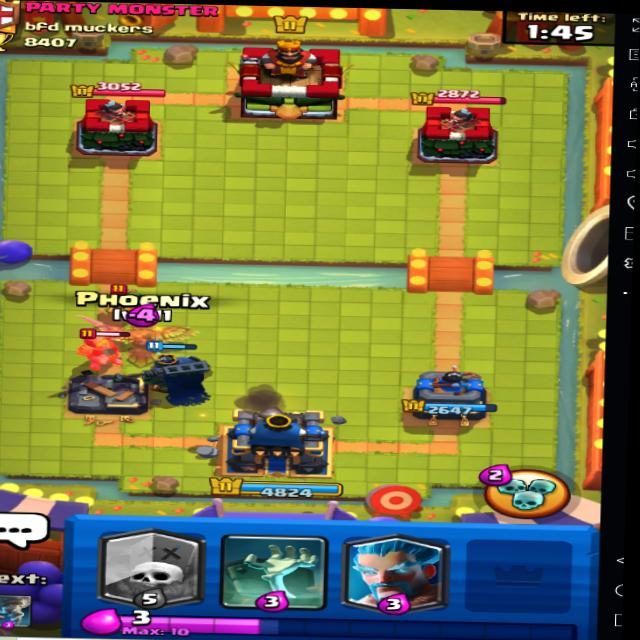knight: (81, 320, 135, 374)
